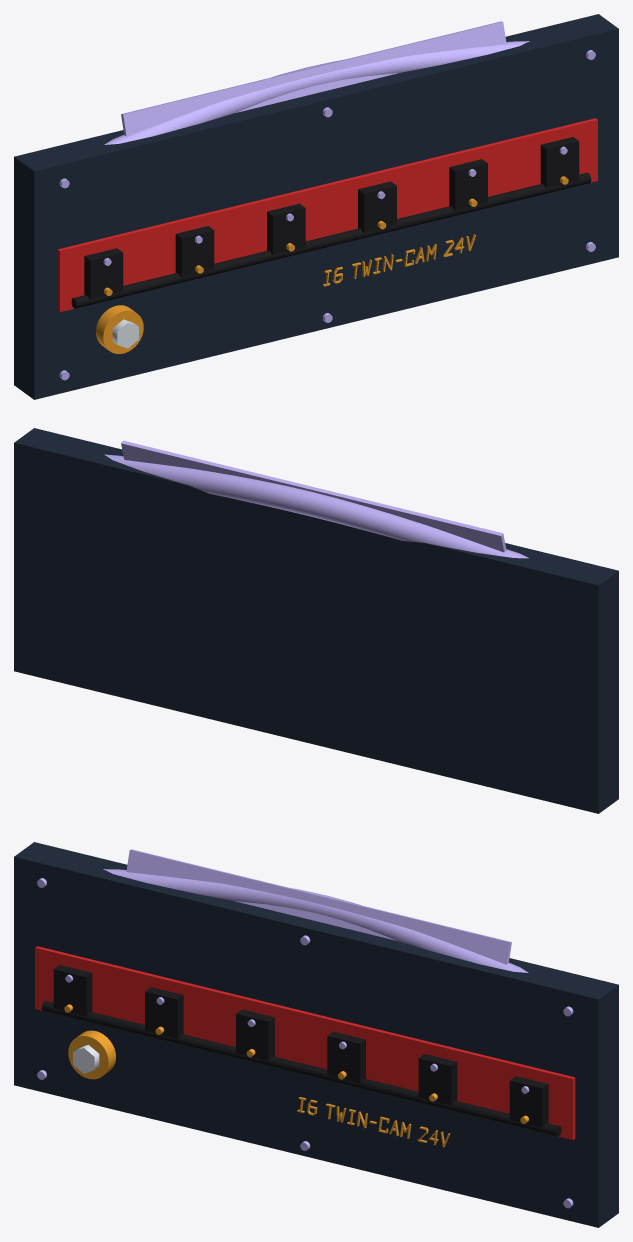
Rendered from engine_cover_inline_twin_cam_turbo.glb.
The picture shows the model from 3 angles, top to bottom: view 1: azimuth 30°, elevation 25°; view 2: azimuth 150°, elevation 25°; view 3: azimuth 330°, elevation 25°; orthographic projection.
Visible parts, largest first — view 1: Model7_Inline_TwinCam_Turbo_Cover; view 2: Model7_Inline_TwinCam_Turbo_Cover; view 3: Model7_Inline_TwinCam_Turbo_Cover.
Boxes of the visible parts, box(x1,y1,x2,y2) form: Model7_Inline_TwinCam_Turbo_Cover: box(14, 14, 618, 399); Model7_Inline_TwinCam_Turbo_Cover: box(14, 428, 618, 813); Model7_Inline_TwinCam_Turbo_Cover: box(14, 842, 618, 1227).
Bounding box in the file's own units: 0.75 × 0.3072 × 0.078.
